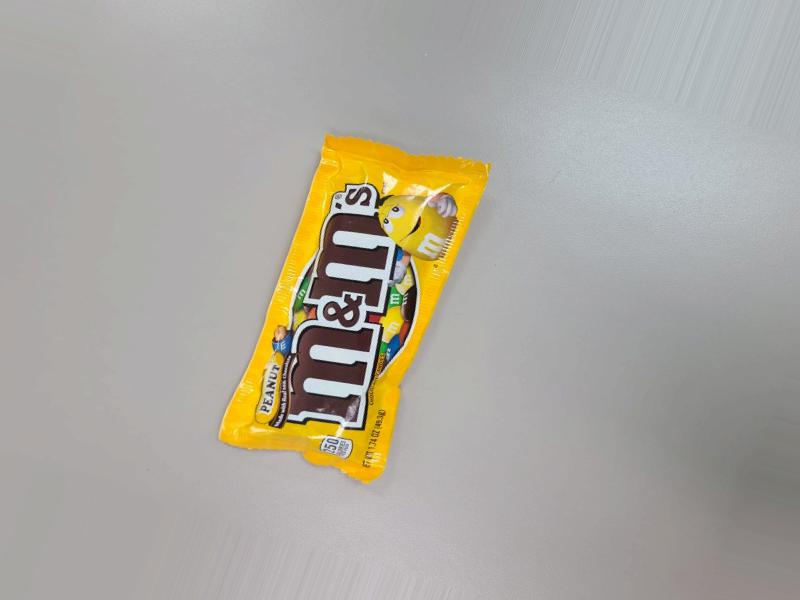m&m: (198, 119, 449, 498)
